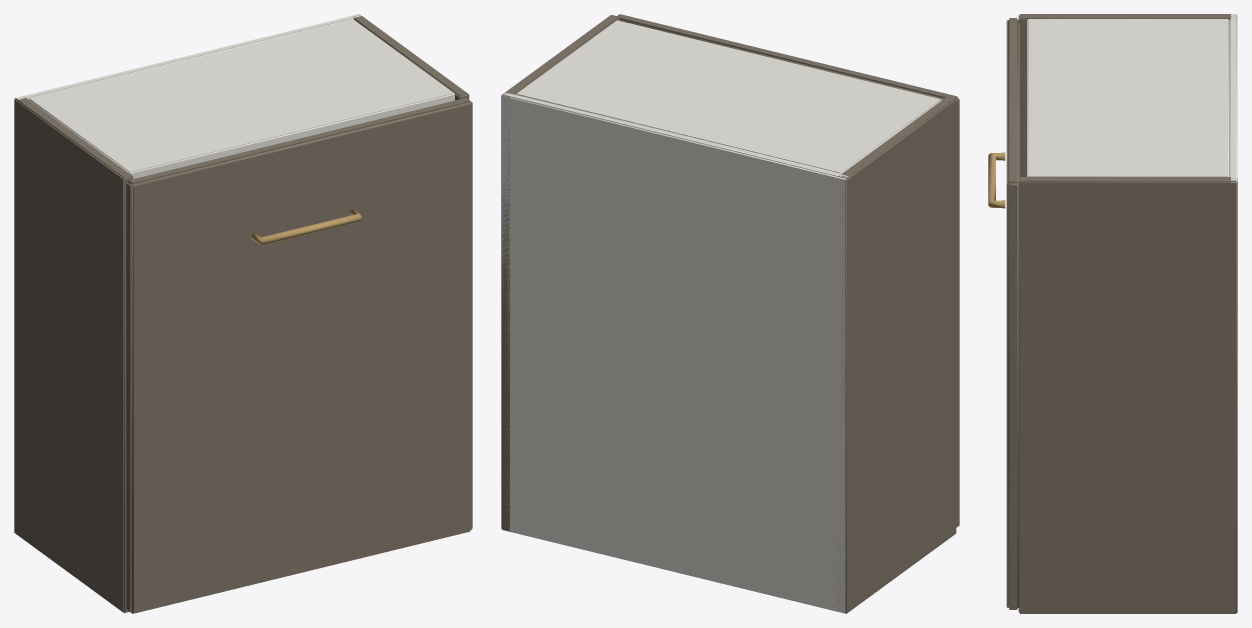
The model's file is contemporary.kitchen_wall.gltf.
3 renders of one model, left to right at view 1: azimuth 30°, elevation 25°; view 2: azimuth 150°, elevation 25°; view 3: azimuth 270°, elevation 25°, orthographic.
Visible parts, largest first — view 1: contemporary.kitchen_wall.back; view 2: contemporary.kitchen_wall.back; view 3: contemporary.kitchen_wall.back.
Part boxes in pixels (<box>): contemporary.kitchen_wall.back: <box>14,14,472,613</box>; contemporary.kitchen_wall.back: <box>501,14,959,613</box>; contemporary.kitchen_wall.back: <box>988,14,1237,613</box>.
Size of the model in its own units: 0.599 by 0.72 by 0.376.
